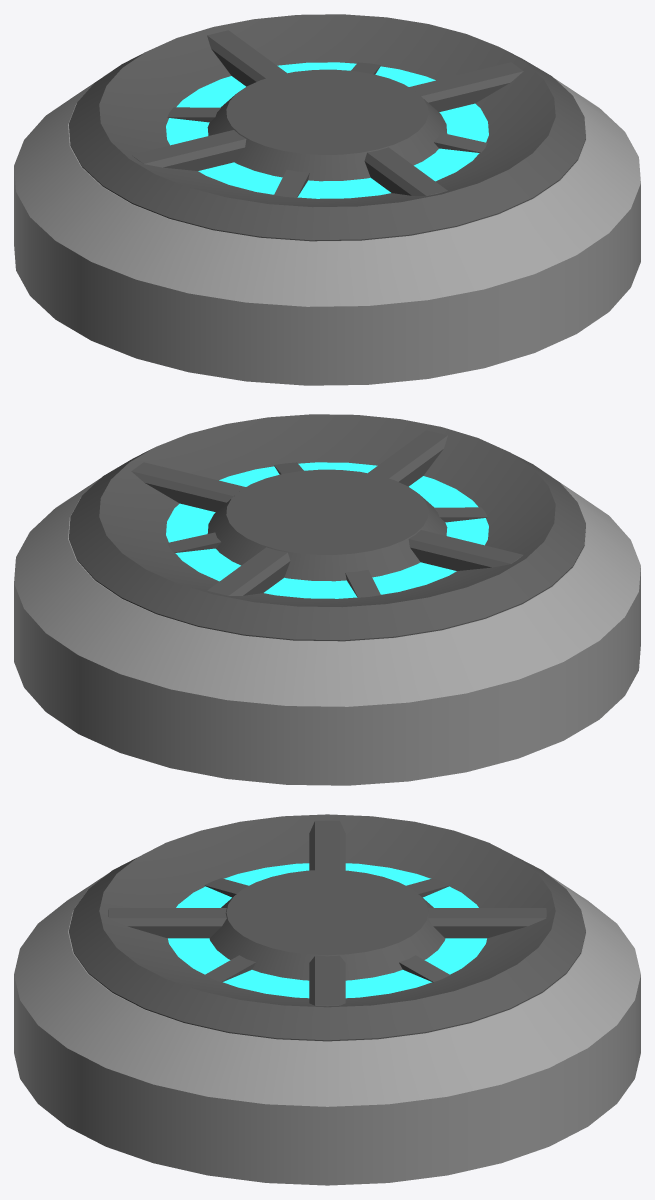
File: Item_Pedestal.fbx
3 renders of one model, top to bottom at view 1: azimuth 30°, elevation 25°; view 2: azimuth 150°, elevation 25°; view 3: azimuth 270°, elevation 25°, orthographic.
Parts seen in each view (by area): view 1: Pedestal Base, Pedestal Recepticle, Pedestal Recepticle Glow; view 2: Pedestal Base, Pedestal Recepticle, Pedestal Recepticle Glow; view 3: Pedestal Base, Pedestal Recepticle, Pedestal Recepticle Glow.
Boxes of the visible parts, box(x1,y1,x2,y2) form: Pedestal Base: box(14, 78, 640, 385); Pedestal Recepticle: box(69, 14, 585, 241); Pedestal Recepticle Glow: box(166, 62, 488, 198); Pedestal Base: box(14, 478, 640, 785); Pedestal Recepticle: box(69, 414, 585, 641); Pedestal Recepticle Glow: box(166, 462, 488, 598); Pedestal Base: box(14, 874, 640, 1185); Pedestal Recepticle: box(69, 814, 585, 1041); Pedestal Recepticle Glow: box(168, 863, 486, 998).
Size of the model in its own units: 1200 by 300 by 1200.
